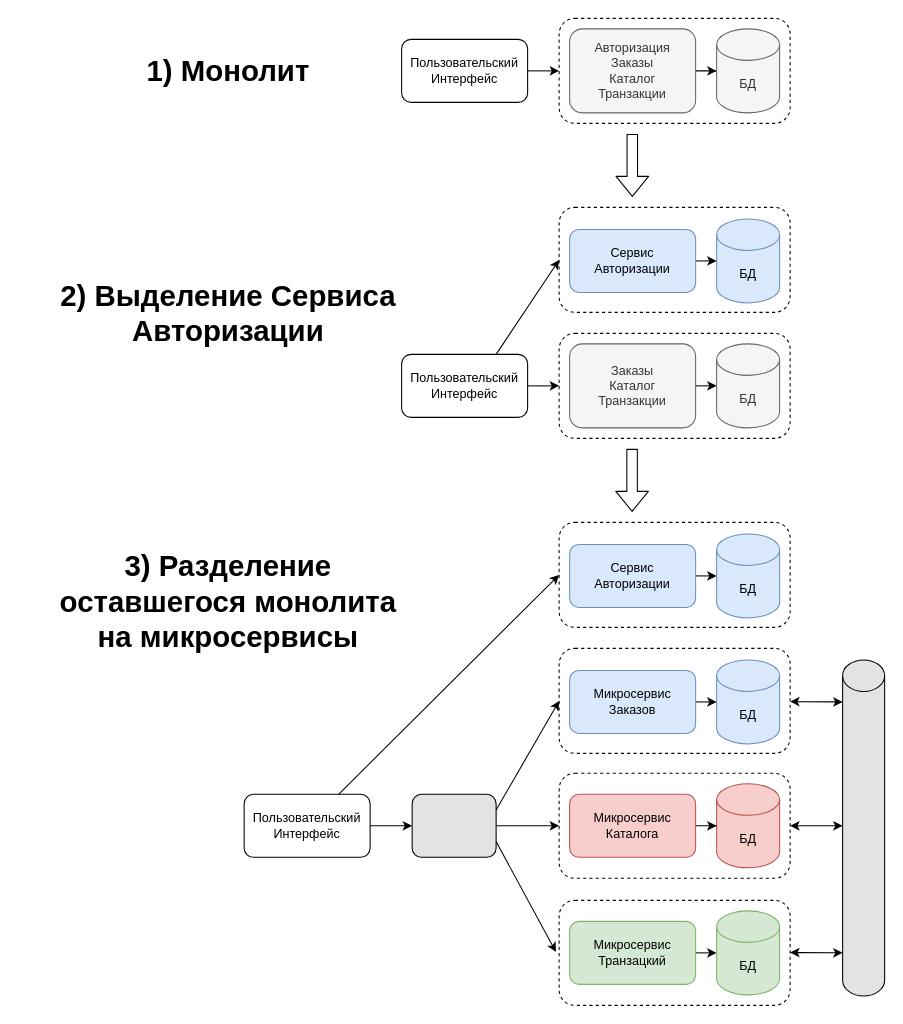
The diagram is 903 pixels wide and 1024 high, and some of its shapes have lost their labels. The centre of each missing label's shape, as x and y in pixels:
"Очередь сообщений" belongs at point 863,827.
"Шлюз" belongs at point 453,825.
